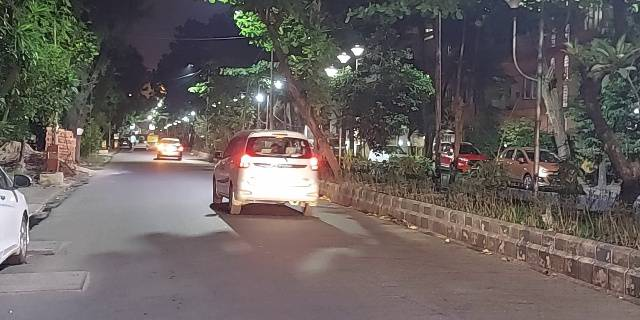Car: (211, 129, 318, 215), (154, 135, 185, 159)
